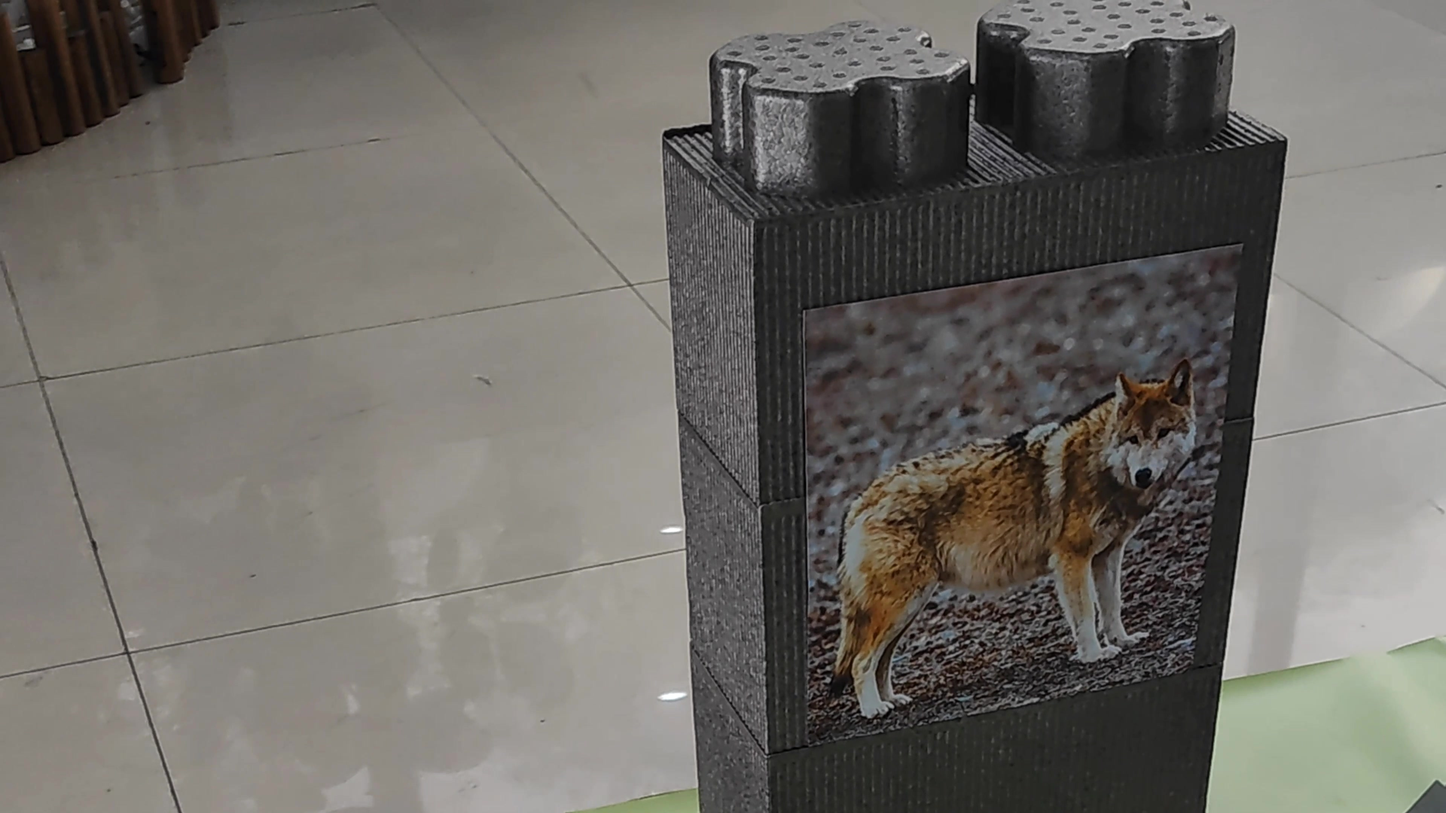wolf: (796, 355, 1218, 732)
